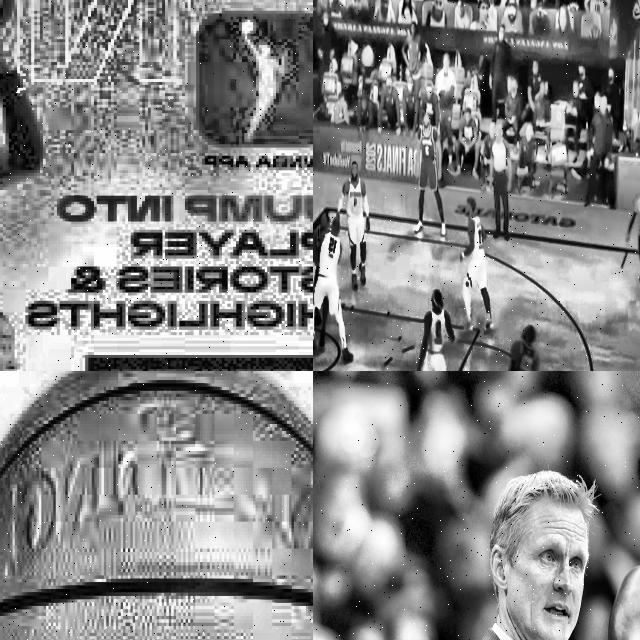Basketball: (0, 371, 313, 640), (362, 43, 374, 66)
